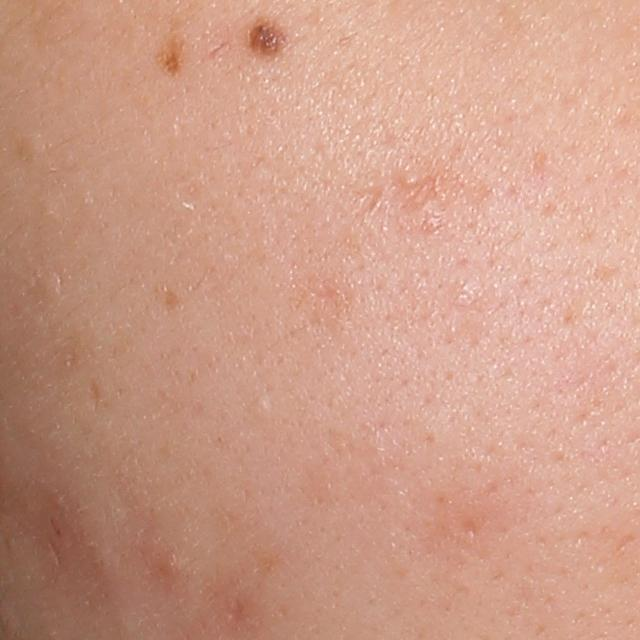atrophic_scar: (391, 174, 441, 215)
comedo: (248, 394, 273, 423)
nevus: (241, 16, 288, 62)
